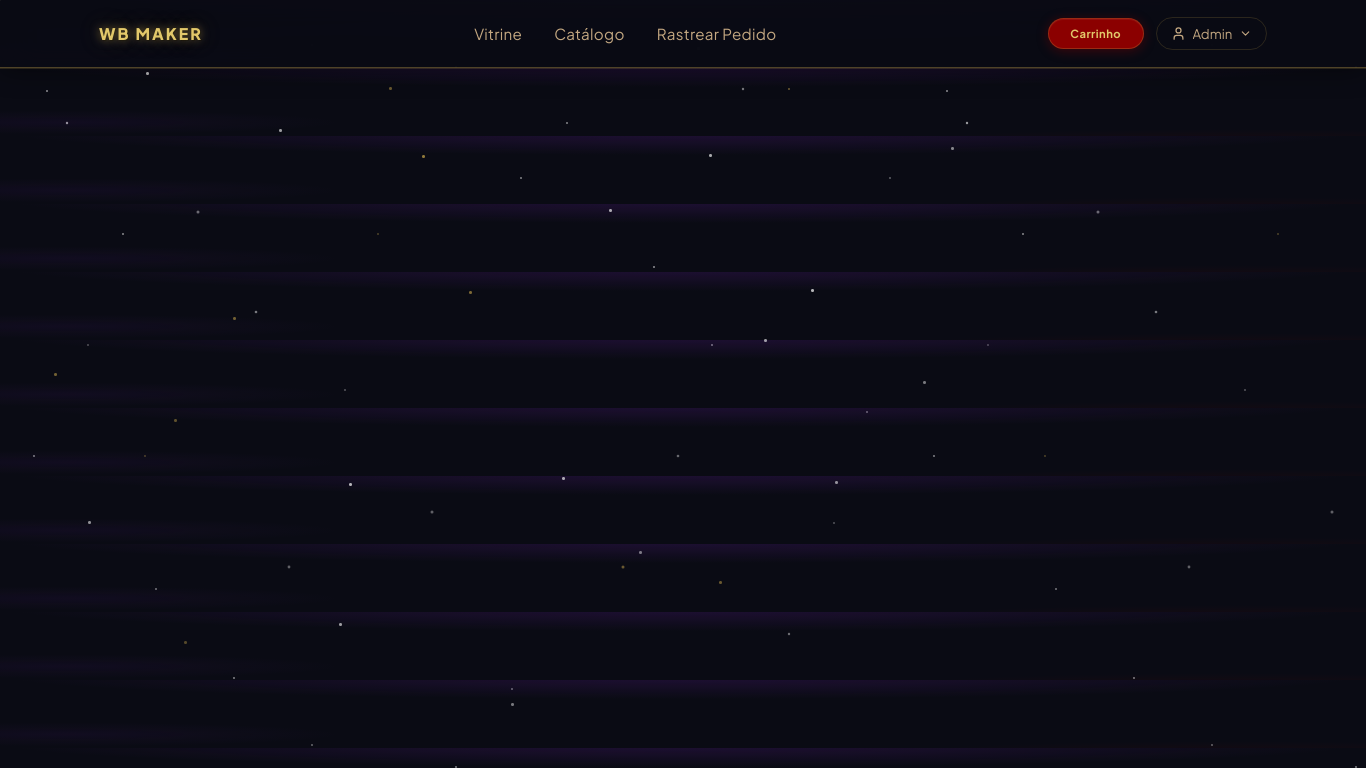
Test: Header — extended coverage › abre dropdown ao clicar no botão do usuário
The image size is (1366, 768).
Click the button "Admin": coordinates (1211, 34) [1156,17,1267,50]
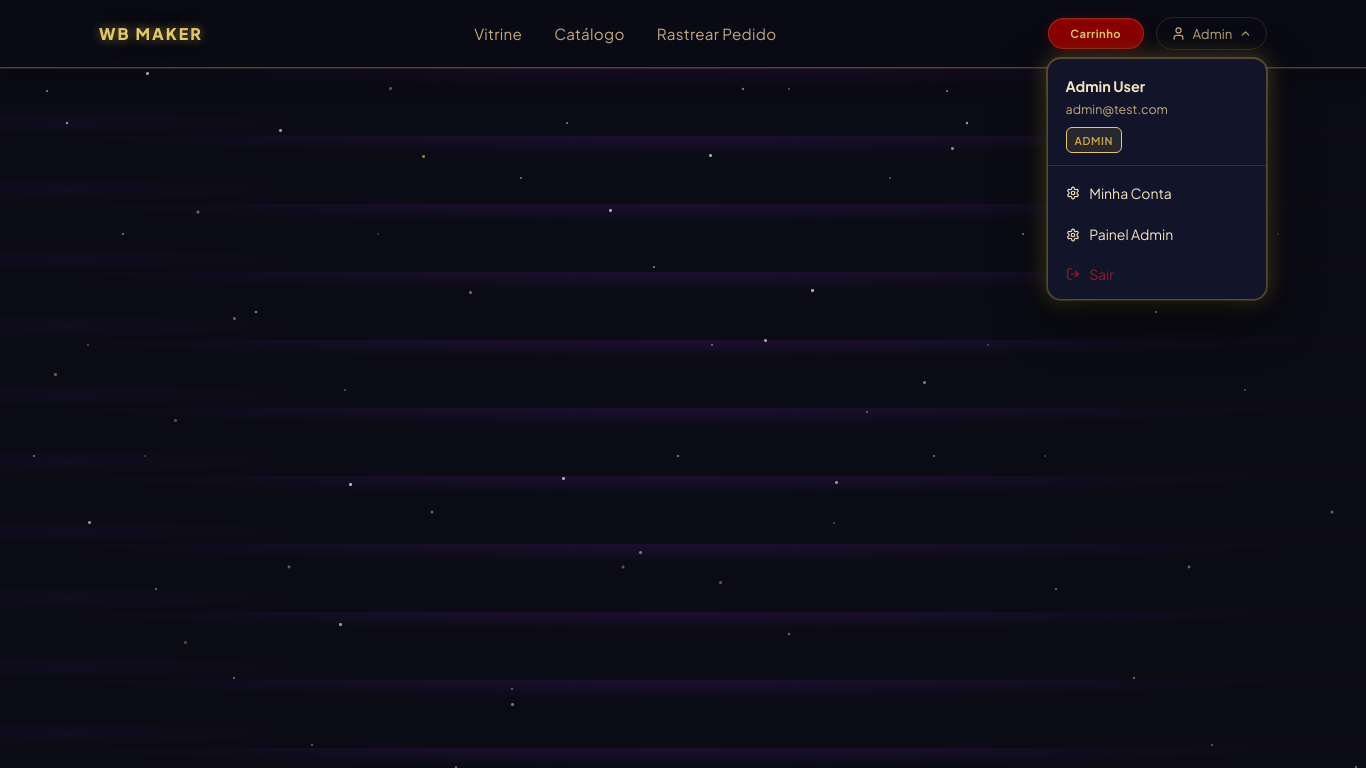
expect the link "Minha Conta" is shown: met, box [1066,184,1172,202]
